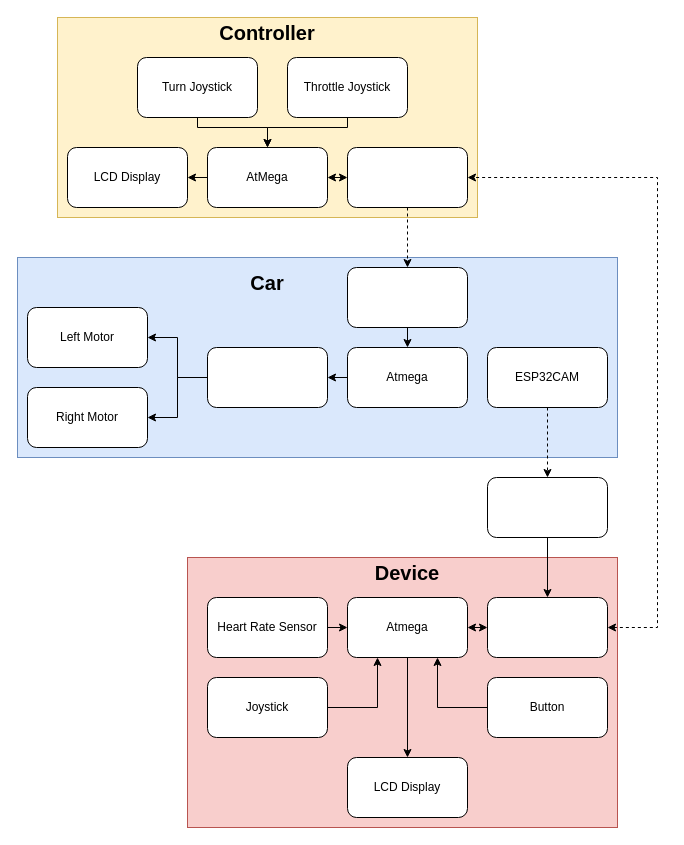
Image size: 684x845. Some labels were removed from this diagram. The shapes that lost their labels are listed below. From the top down, each one's box as (x1, y1, x2, y2) in pixels, then its label:
(346, 146, 468, 208): ESP32 Controller
(346, 266, 468, 328): ESP32 Motor Driver
(206, 346, 328, 408): L293 Motor Driver
(486, 476, 608, 538): Computer
(486, 596, 608, 658): ESP32 LCD
